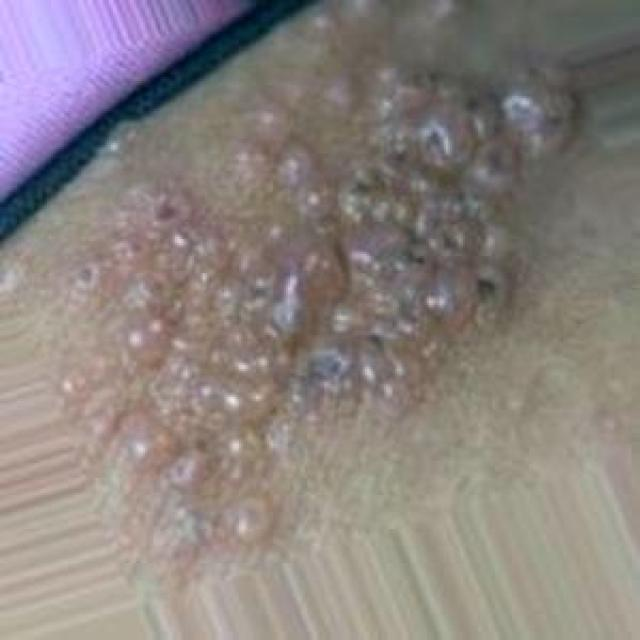Shingles: (60, 57, 572, 557)
